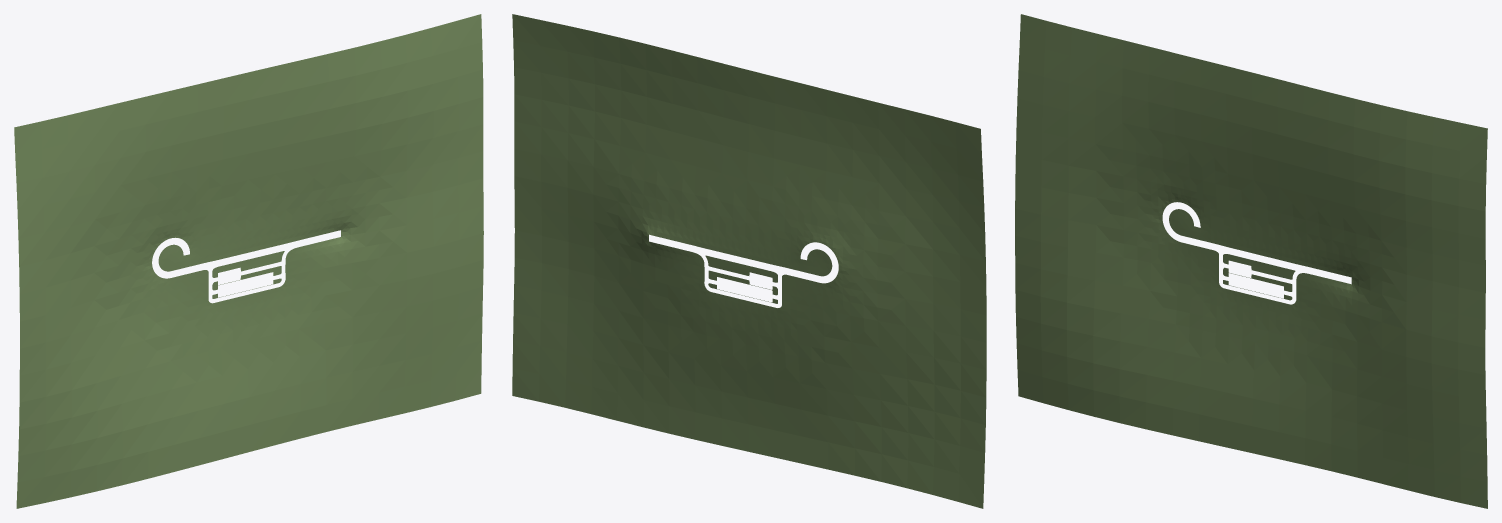
Rendered from parking2.obj.
3 views of the same model, side by side, from view 1: azimuth 30°, elevation 25°; view 2: azimuth 150°, elevation 25°; view 3: azimuth 330°, elevation 25° (orthographic).
Visible parts, largest first — view 1: Background; view 2: Background; view 3: Background.
Part boxes in pixels (<box>): Background: <box>14,14,483,508</box>; Background: <box>512,14,986,508</box>; Background: <box>1015,14,1487,508</box>.
Size of the model in its own units: 720 by 560 by 20.85.
